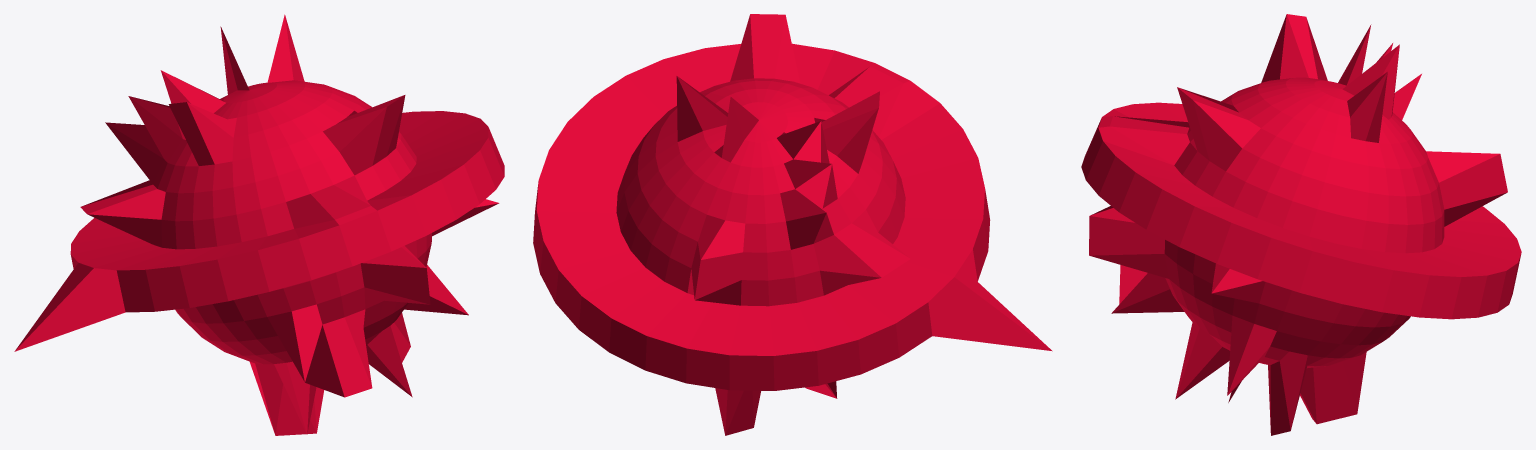
Rendered from planet1.fbx.
3 renders of one model, left to right at view 1: azimuth 30°, elevation 25°; view 2: azimuth 150°, elevation 25°; view 3: azimuth 270°, elevation 25°, orthographic. The views are drawn at different scales.
Visible parts, largest first — view 1: Sphere.001; view 2: Sphere.001; view 3: Sphere.001.
Part boxes in pixels (box(x1,y1,x2,y2)): Sphere.001: box(14, 14, 504, 435); Sphere.001: box(533, 14, 1052, 435); Sphere.001: box(1081, 14, 1521, 435).
Bounding box in the file's own units: 712 × 521 × 568.
